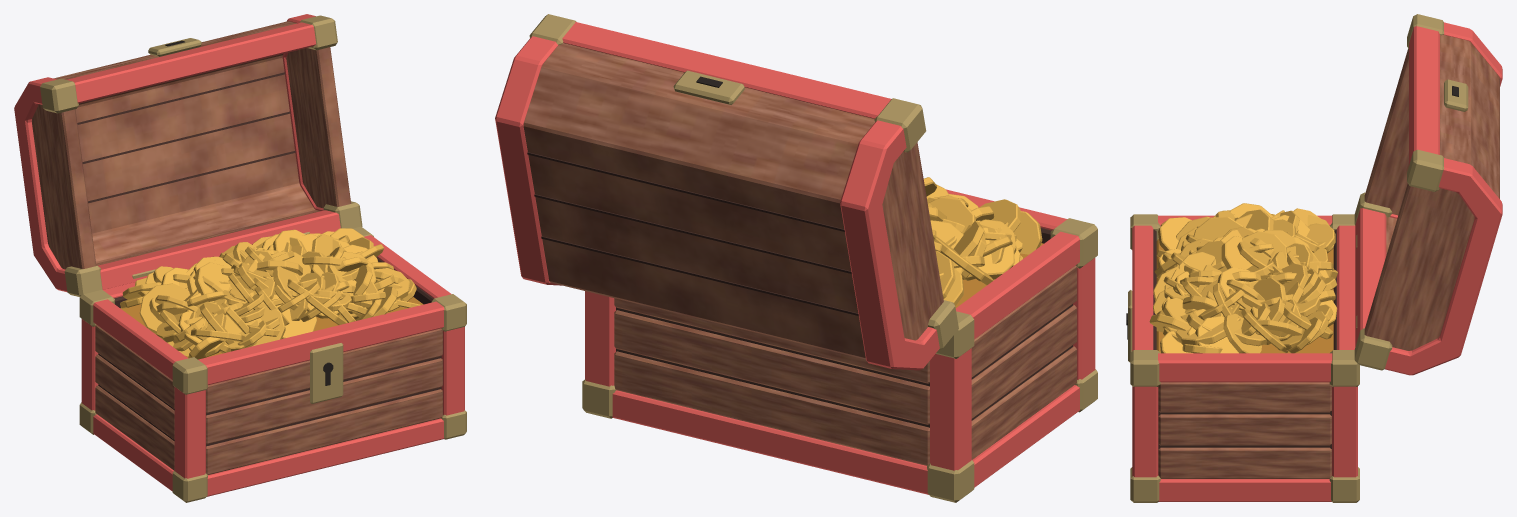
The model's file is annie.glb.
3 views of the same model, side by side, from view 1: azimuth 30°, elevation 25°; view 2: azimuth 150°, elevation 25°; view 3: azimuth 270°, elevation 25° (orthographic). The views are drawn at different scales.
Parts seen in each view (by area): view 1: Lid_Shell, Coins, Lid, Lid_End_-1, Plank_F0, Plank_F1, Lid_Rim_F, Rim_F, Plank_F2, Band_F, Lid_Rim_B, Lid_Band_-1 (+25 smaller); view 2: Lid_Shell, Plank_B1, Plank_B0, Lid_Band_-1, Band_B, Coins, Lid_Rim_F, Lid_End_-1, Lid, Rim_L, Post_-11, Plank_L0 (+19 smaller); view 3: Coins, Lid, Lid_Shell, Plank_R1, Plank_R0, Plank_R2, Rim_R, Band_R, Lid_Rim_F, Lid_End_-1, Lid_Rim_B, Rim_F (+15 smaller).
Part boxes in pixels (x1=…): Lid_Shell: x1=53, y1=21, x2=320, y2=265; Coins: x1=120, y1=228, x2=420, y2=359; Lid: x1=282, y1=14, x2=351, y2=210; Lid_End_-1: x1=32, y1=104, x2=96, y2=269; Plank_F0: x1=206, y1=389, x2=442, y2=474; Plank_F1: x1=206, y1=358, x2=442, y2=444; Lid_Rim_F: x1=66, y1=22, x2=315, y2=103; Rim_F: x1=198, y1=301, x2=444, y2=384; Plank_F2: x1=206, y1=328, x2=442, y2=413; Band_F: x1=207, y1=418, x2=444, y2=496; Lid_Rim_B: x1=98, y1=210, x2=340, y2=289; Lid_Band_-1: x1=14, y1=77, x2=67, y2=291; Lid_Shell: x1=523, y1=43, x2=874, y2=359; Plank_B1: x1=614, y1=310, x2=929, y2=424; Plank_B0: x1=614, y1=351, x2=929, y2=465; Lid_Band_-1: x1=840, y1=120, x2=939, y2=370; Band_B: x1=612, y1=390, x2=928, y2=494; Coins: x1=923, y1=177, x2=1042, y2=305; Lid_Rim_F: x1=562, y1=22, x2=891, y2=118; Lid_End_-1: x1=882, y1=142, x2=943, y2=340; Lid: x1=495, y1=36, x2=561, y2=285; Rim_L: x1=955, y1=231, x2=1079, y2=339; Post_-11: x1=930, y1=348, x2=971, y2=470; Plank_L0: x1=971, y1=346, x2=1076, y2=459; Coins: x1=1149, y1=203, x2=1337, y2=353; Lid: x1=1364, y1=158, x2=1502, y2=375; Lid_Shell: x1=1386, y1=35, x2=1499, y2=254; Plank_R1: x1=1158, y1=414, x2=1331, y2=445; Plank_R0: x1=1158, y1=447, x2=1331, y2=478; Plank_R2: x1=1158, y1=382, x2=1331, y2=412; Rim_R: x1=1158, y1=353, x2=1332, y2=382; Band_R: x1=1158, y1=479, x2=1331, y2=501; Lid_Rim_F: x1=1409, y1=26, x2=1439, y2=165; Lid_End_-1: x1=1364, y1=48, x2=1408, y2=215; Lid_Rim_B: x1=1355, y1=208, x2=1386, y2=346; Rim_F: x1=1132, y1=225, x2=1153, y2=350.
Size of the model in its own units: 2.02 by 2.18 by 2.17.
Materials: 21 (15 with a texture image).
